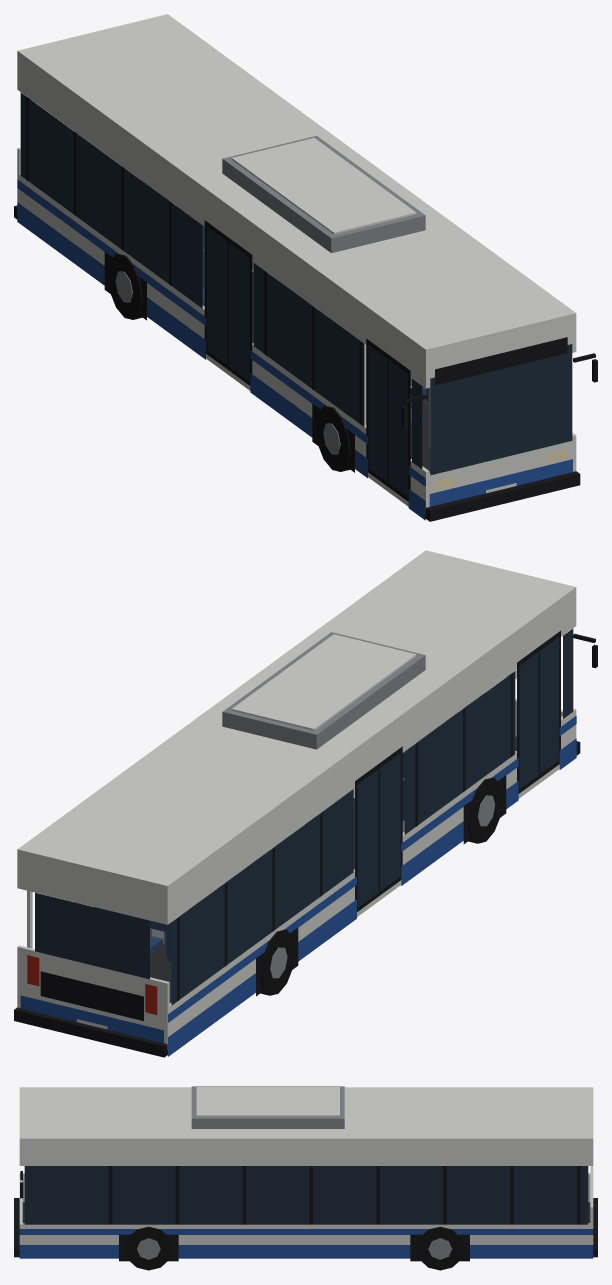
Rendered from veh_italy-bus.glb.
The picture shows the model from 3 angles, top to bottom: view 1: azimuth 30°, elevation 25°; view 2: azimuth 150°, elevation 25°; view 3: azimuth 270°, elevation 25°; orthographic projection. The views are drawn at different scales.
Parts seen in each view (by area): view 1: body; view 2: body; view 3: body.
Boxes of the visible parts, x1,y1,x2,y2 form: body: (14,14,597,521); body: (14,550,597,1057); body: (14,1086,597,1270).
Size of the model in its own units: 3.29 by 3.3 by 12.22.
